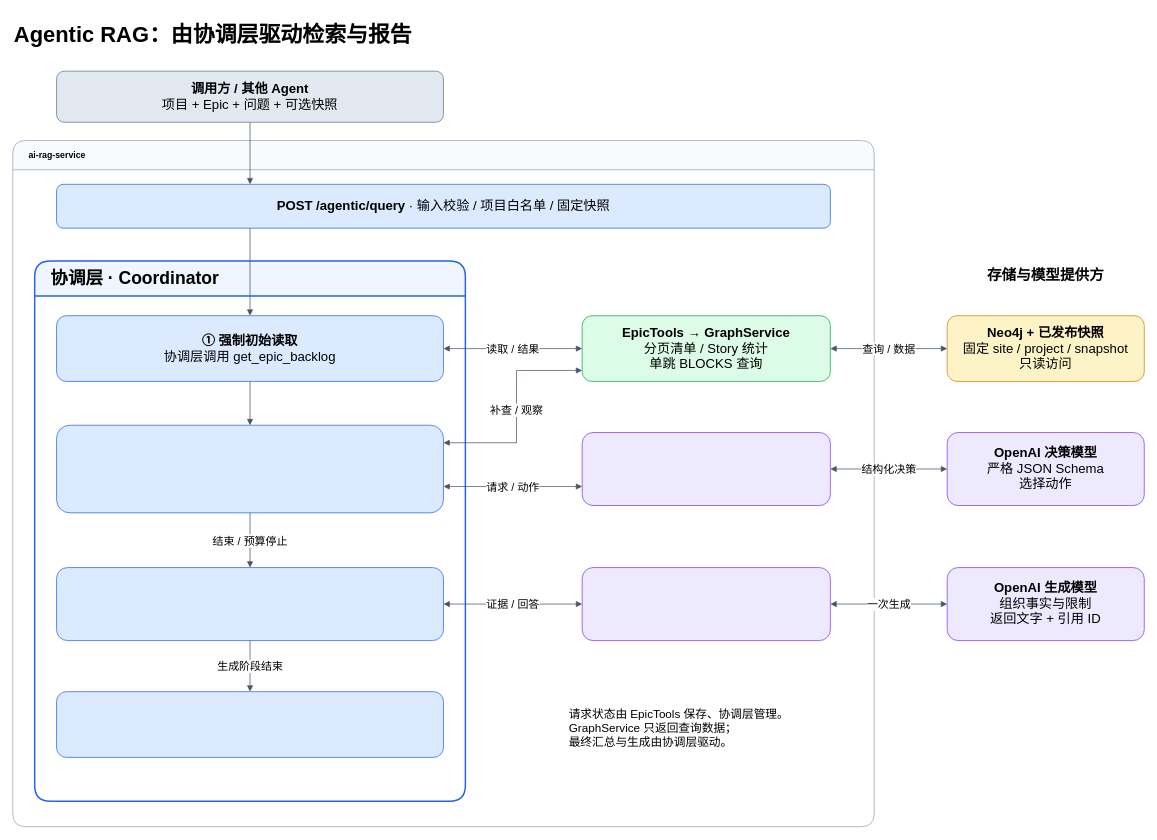
The diagram is 1157 pixels wide and 840 high, and some of its shapes have lost their labels. Here are the shapes that lost their labels. From the top down, the centre of each, then its label:
At (x=249, y=468): "② 有界 ReAct 循环 模型决策 → 调用工具 → 观察 → 再决策 持续更新请求内证据与覆盖账本".
At (x=705, y=469): "ModelDecider 问题 + 观察 + 剩余预算 校验 lookup / finish 结构化动作".
At (x=249, y=604): "③ 协调层结束检索并准备报告 合并证据 / 统一引用编号 / 核验 findings build_report → 调用 ReportGenerator 一次".
At (x=705, y=604): "ReportGenerator 基于合并证据生成一次回答 调用 CitationValidator 校验引用".
At (x=249, y=724): "④ 协调层返回结果 facts / findings / coverage / answer 生成失败时仍保留已核验事实".
